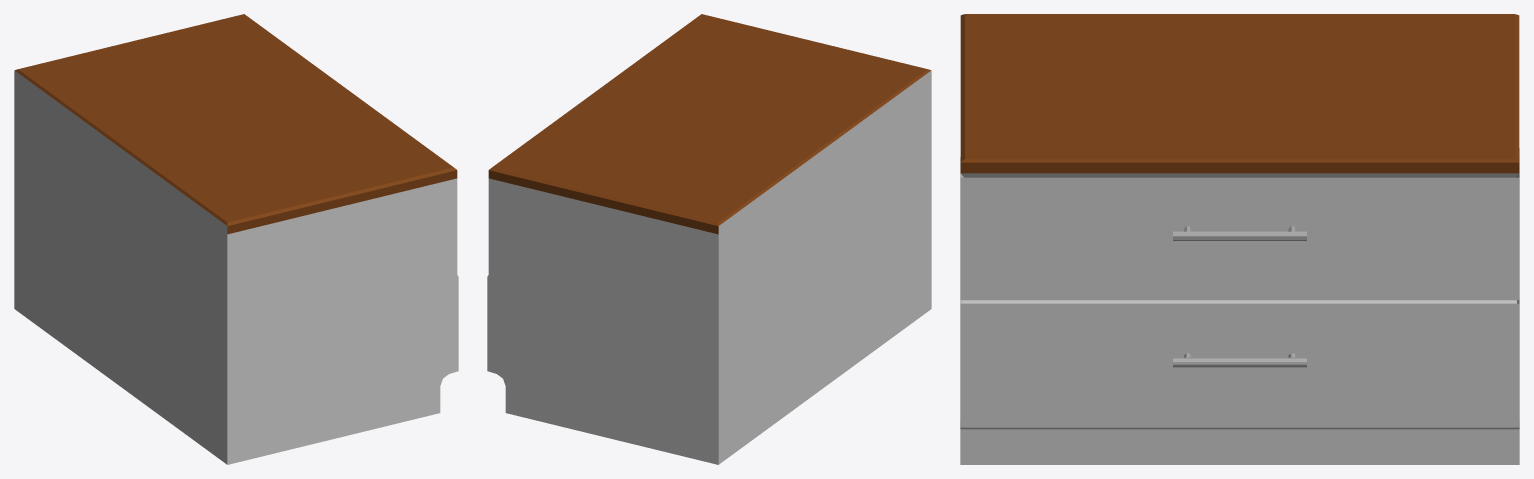
File: Cuisine_Table_de_travail.fbx
The picture shows the model from 3 angles, left to right: view 1: azimuth 30°, elevation 25°; view 2: azimuth 150°, elevation 25°; view 3: azimuth 270°, elevation 25°; orthographic projection. The views are drawn at different scales.
Visible parts, largest first — view 1: Table; view 2: Table; view 3: Table.
Part boxes in pixels (<box>): Table: <box>14,14,458,464</box>; Table: <box>487,14,931,464</box>; Table: <box>960,14,1519,464</box>.
Size of the model in its own units: 213 by 200 by 321.
